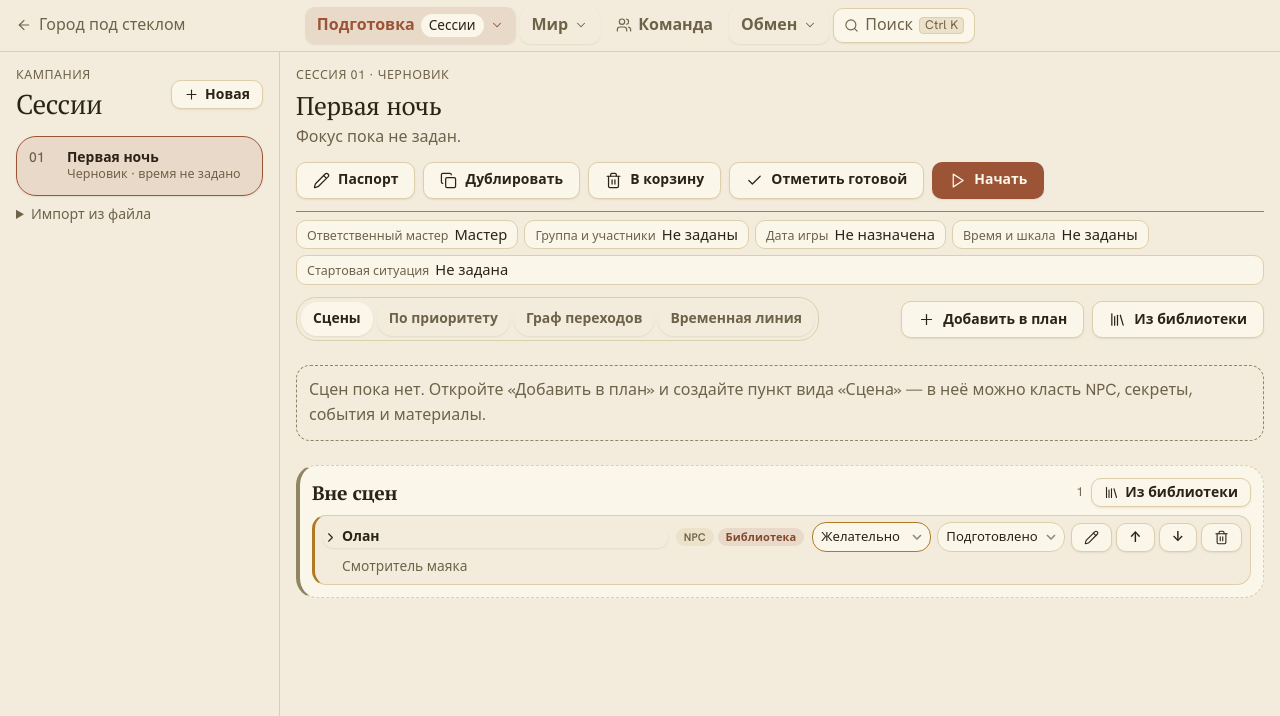
stage 3: plan › shows a library record inside the plan and edits it in the library
The image size is (1280, 716).
Click the button with aria-label "Показать подробности: Олан": (361, 536) 323,526 -> 668,548
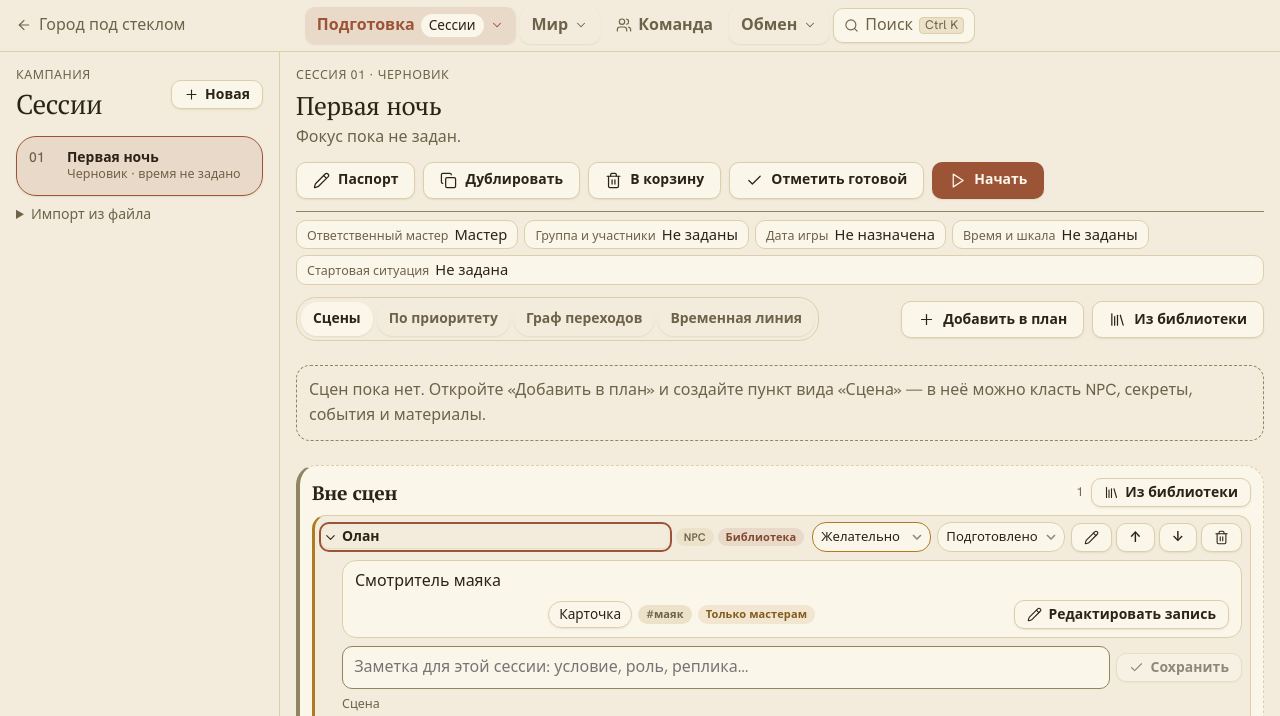
Now the text "#маяк" is shown, box 638,605 -> 692,624
Click the button with aria-label "Редактировать запись: Олан": (1122, 615) 1014,600 -> 1229,629
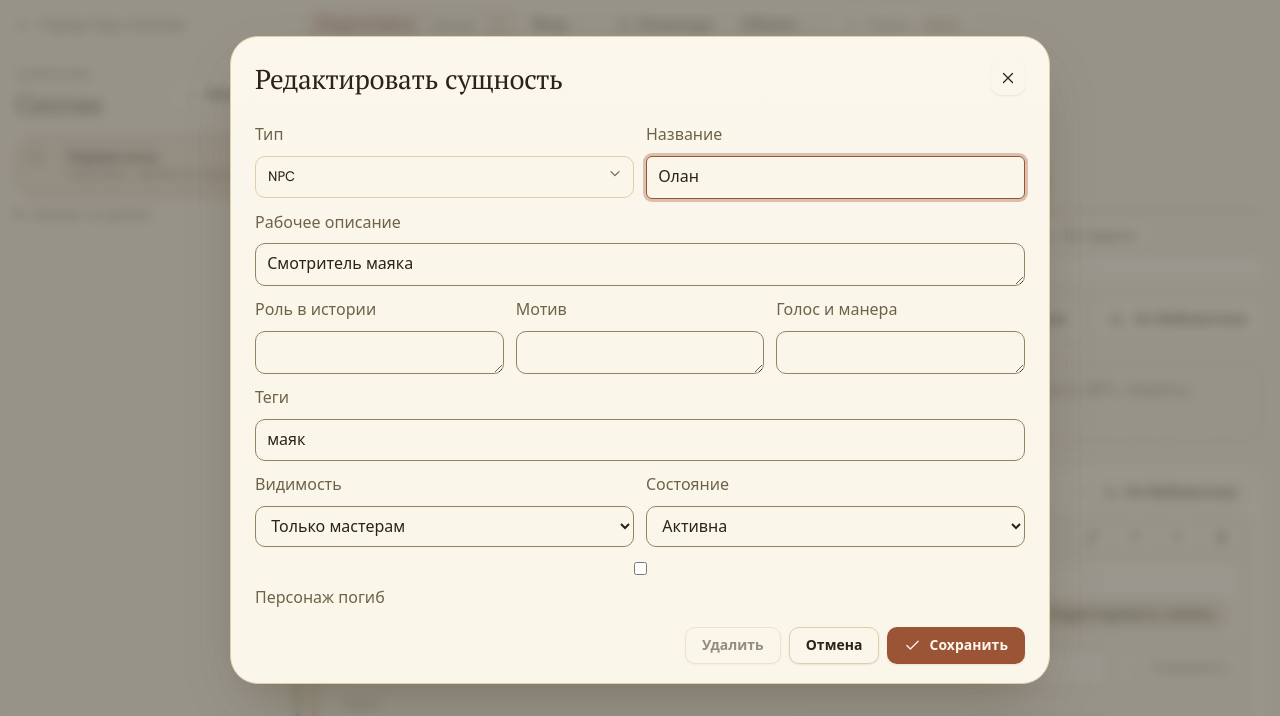
Replace the text in the text box labelled "Рабочее описание" with "Бывший контрабандист": (640, 265) 255,243 -> 1025,286
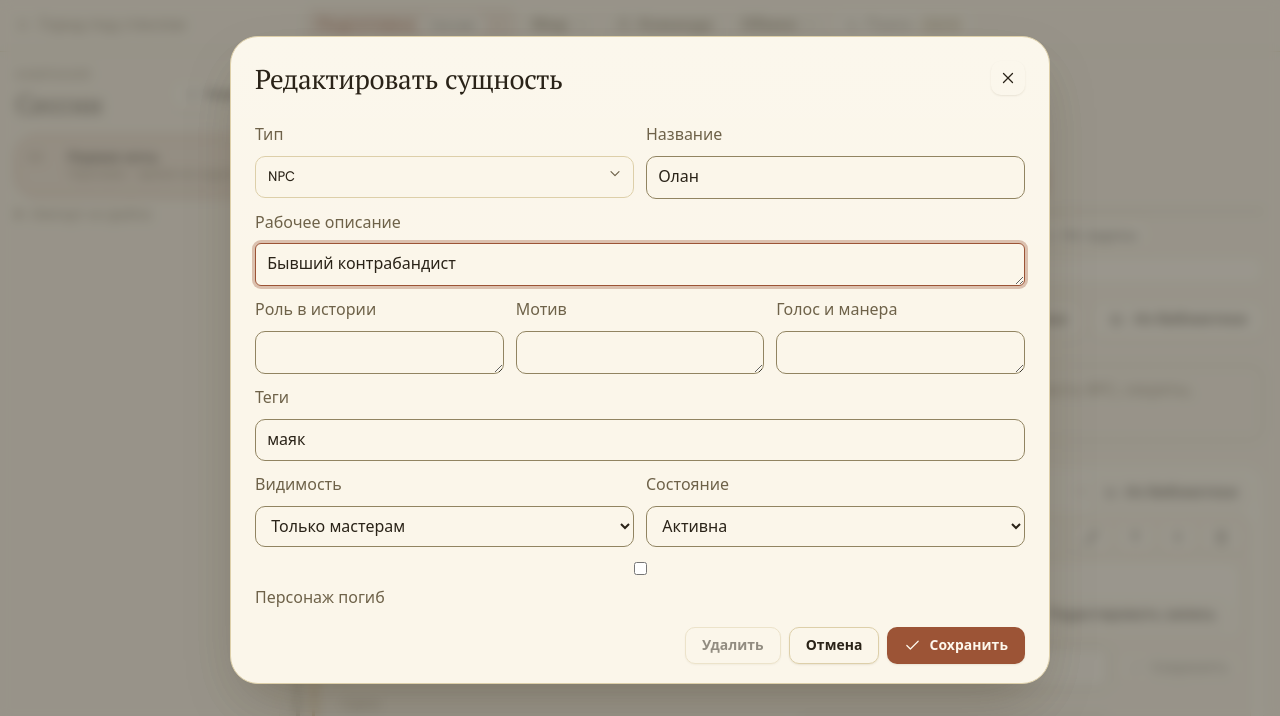
Click the button "Сохранить": (956, 646) 888,627 -> 1025,664
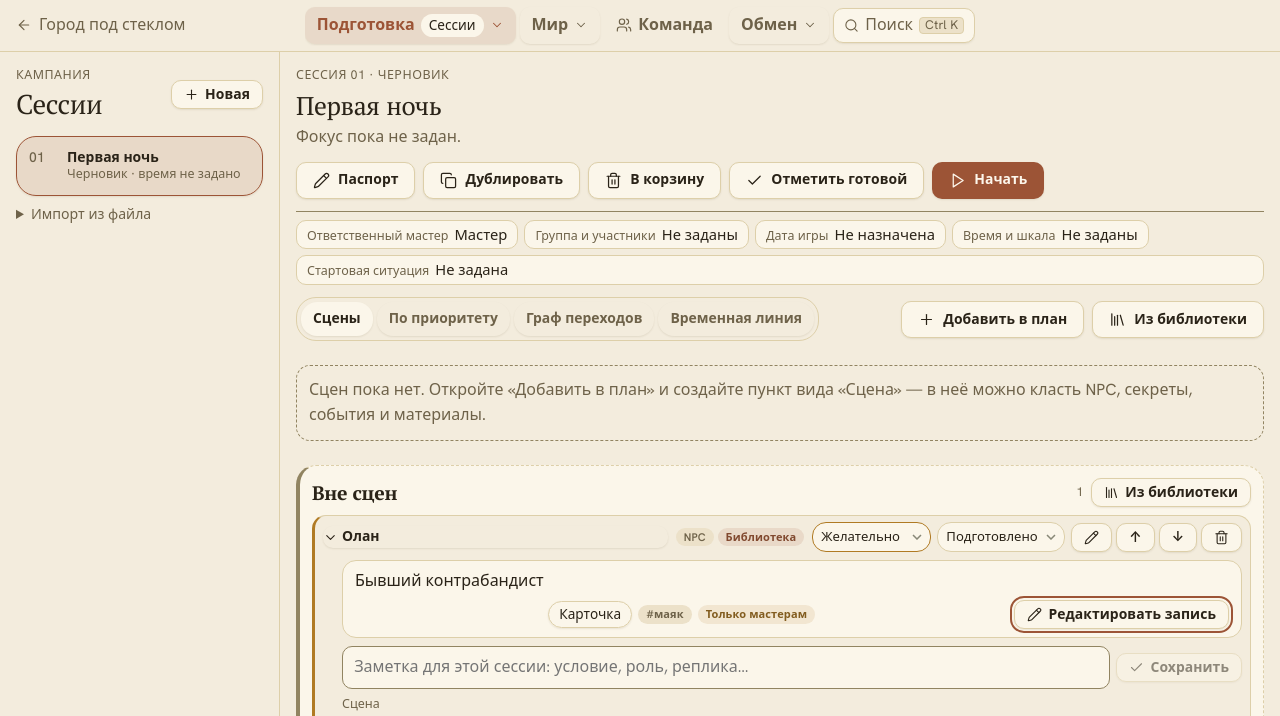
Now the text "Бывший контрабандист" is shown, box 355,570 -> 544,591
